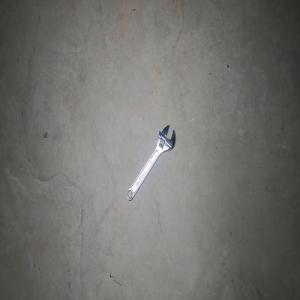Wrench: (126, 125, 175, 201)
